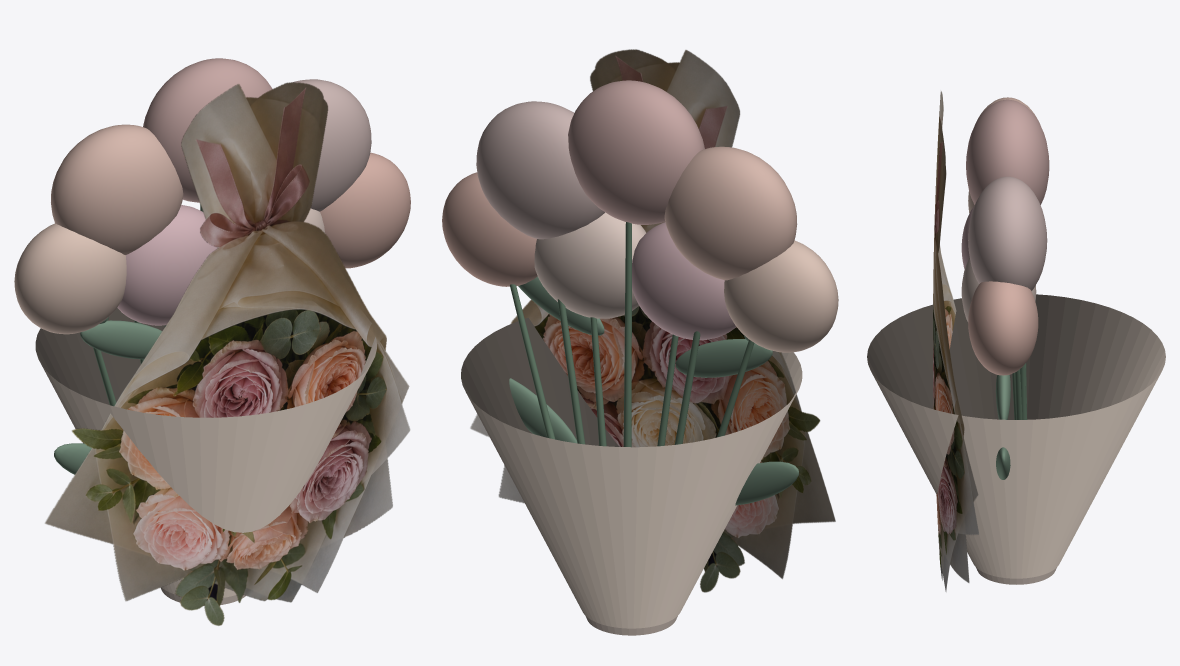
File: bouquet-3d.glb
3 renders of one model, left to right at view 1: azimuth 30°, elevation 25°; view 2: azimuth 150°, elevation 25°; view 3: azimuth 270°, elevation 25°, orthographic. The views are drawn at different scales.
Parts seen in each view (by area): view 1: Blush garden rose bouquet; view 2: Blush garden rose bouquet; view 3: Blush garden rose bouquet.
Part boxes in pixels (x1,y1,x2,y2): Blush garden rose bouquet: (14, 58, 410, 625); Blush garden rose bouquet: (442, 49, 838, 635); Blush garden rose bouquet: (867, 91, 1165, 591).
Size of the model in its own units: 1.79 by 2.4 by 1.36.
Materials: 2 (1 with a texture image).
